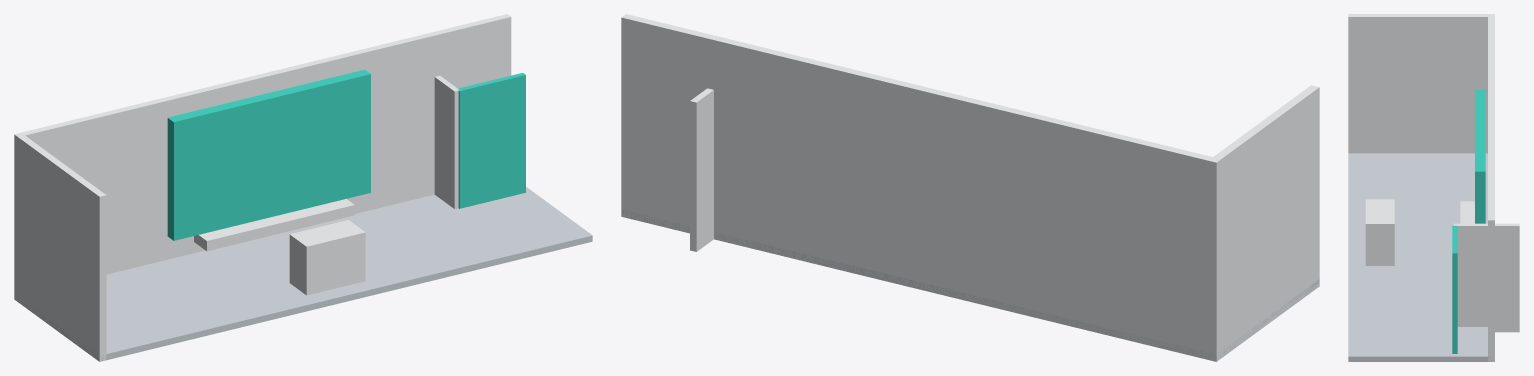
The picture shows the model from 3 angles, left to right: view 1: azimuth 30°, elevation 25°; view 2: azimuth 150°, elevation 25°; view 3: azimuth 270°, elevation 25°; orthographic projection. The views are drawn at different scales.
Parts seen in each view (by area): view 1: Exhibition Booth Concept; view 2: Exhibition Booth Concept; view 3: Exhibition Booth Concept.
Part boxes in pixels (bbox=[...]): Exhibition Booth Concept: bbox=[14, 14, 592, 361]; Exhibition Booth Concept: bbox=[621, 14, 1319, 361]; Exhibition Booth Concept: bbox=[1348, 14, 1519, 361].
Size of the model in its own units: 10 by 3.2 by 3.51.
